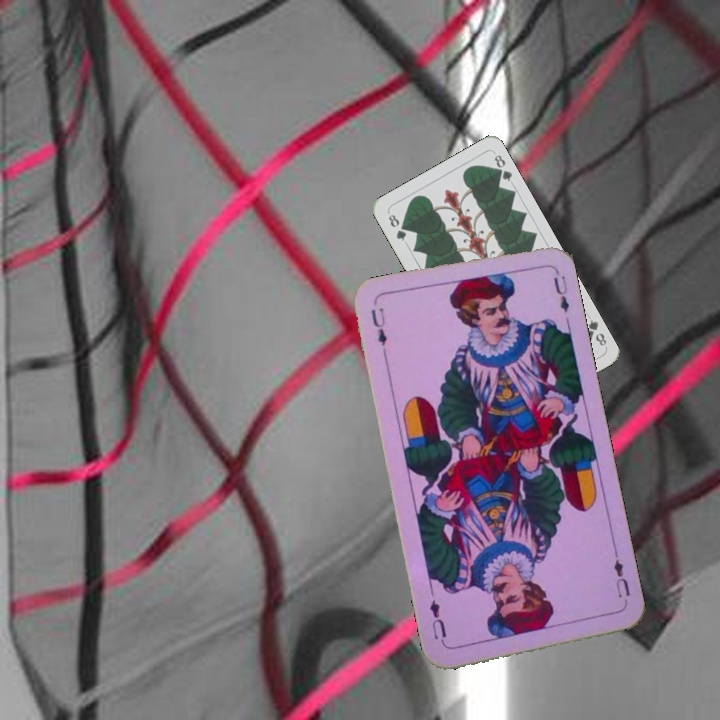EU: (366, 304, 390, 361), (609, 548, 633, 601)
G8: (581, 315, 609, 349), (384, 210, 409, 244)
